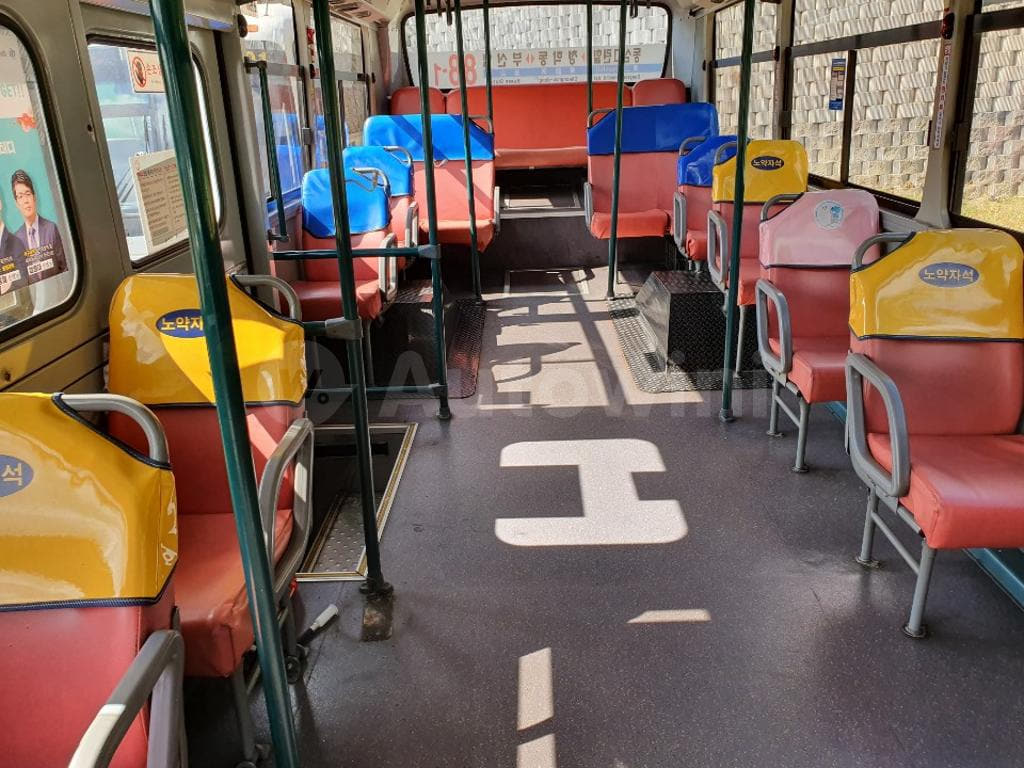seat: (846, 216, 1020, 605)
